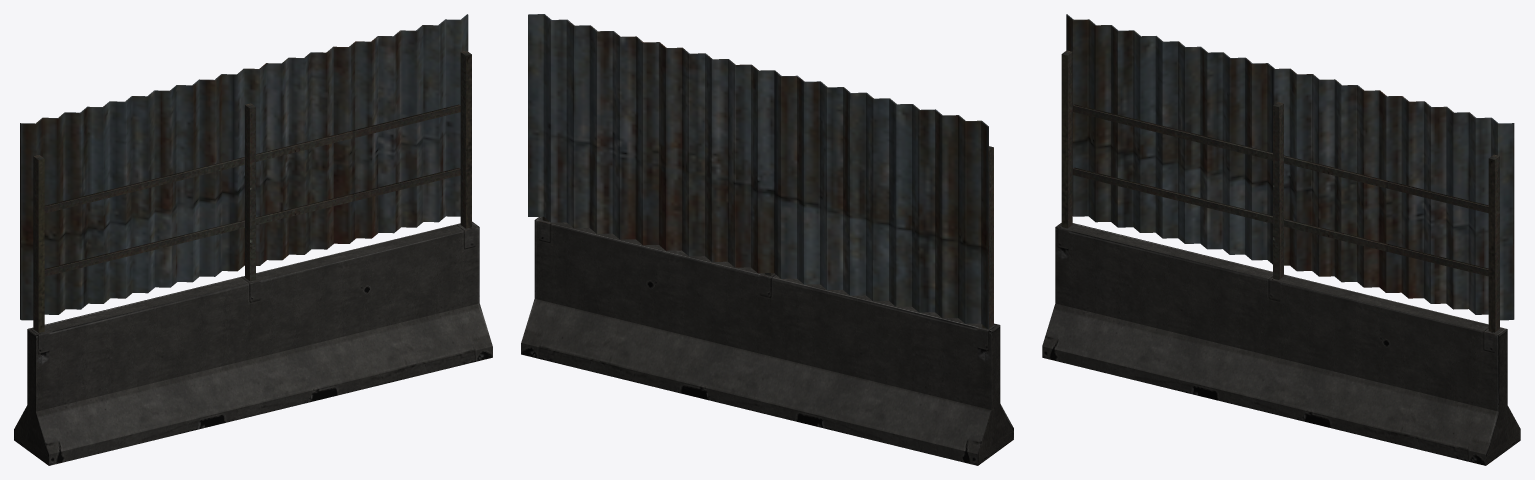
Rendered from barricade_b_4.dae.
3 views of the same model, side by side, from view 1: azimuth 30°, elevation 25°; view 2: azimuth 150°, elevation 25°; view 3: azimuth 330°, elevation 25° (orthographic). The views are drawn at different scales.
Parts seen in each view (by area): view 1: barricade_b_4; view 2: barricade_b_4; view 3: barricade_b_4.
Part boxes in pixels (x1,y1,x2,y2): barricade_b_4: (14,14,492,465); barricade_b_4: (521,14,1013,465); barricade_b_4: (1042,14,1520,465).
Bounding box in the file's own units: 2.96 × 0.4 × 2.05.
Materials: 3 (3 with a texture image).
